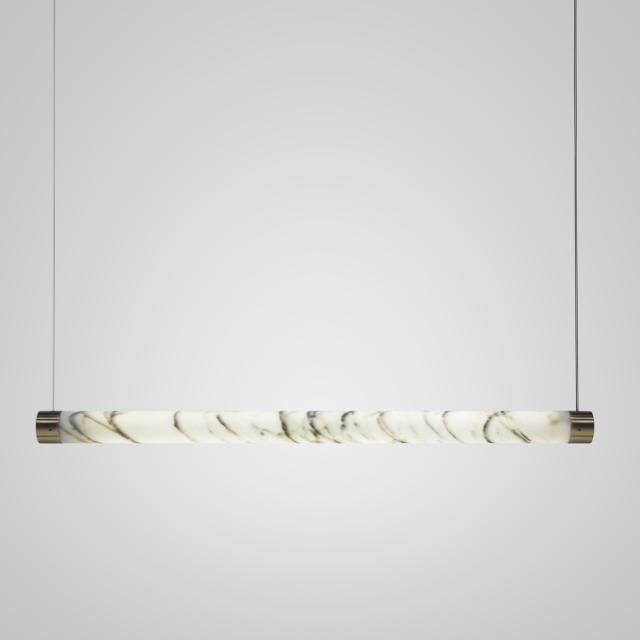tubelight_off: (34, 400, 600, 445)
